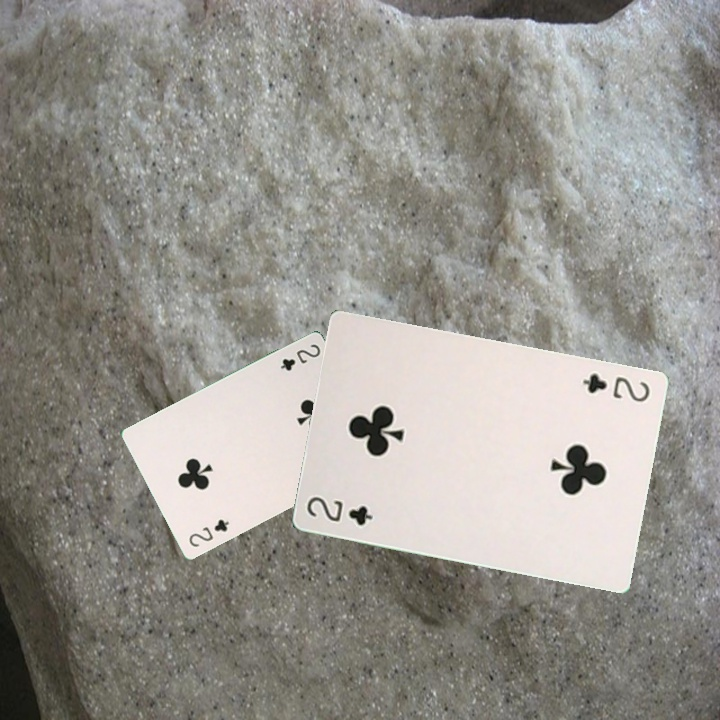2c: (578, 369, 652, 405), (302, 492, 376, 528), (185, 515, 232, 550), (276, 340, 323, 374)
